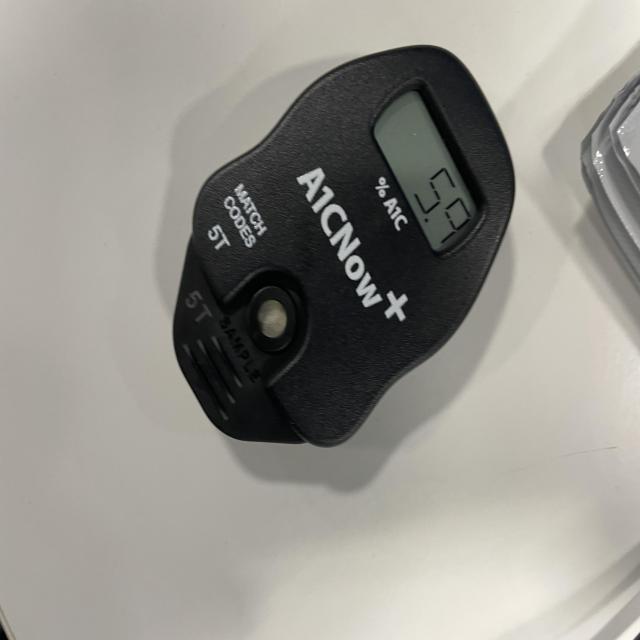hba1c: (171, 45, 516, 451)
